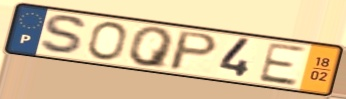4: (217, 36, 255, 82)
E: (255, 41, 307, 88)
O: (86, 20, 129, 62)
P: (166, 29, 221, 73)
Q: (127, 26, 177, 70)
S: (37, 14, 91, 57)
